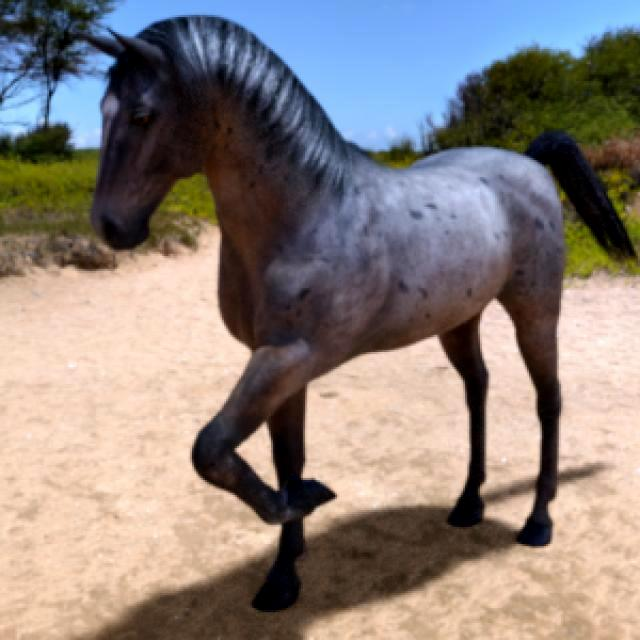horse: (88, 18, 634, 609)
